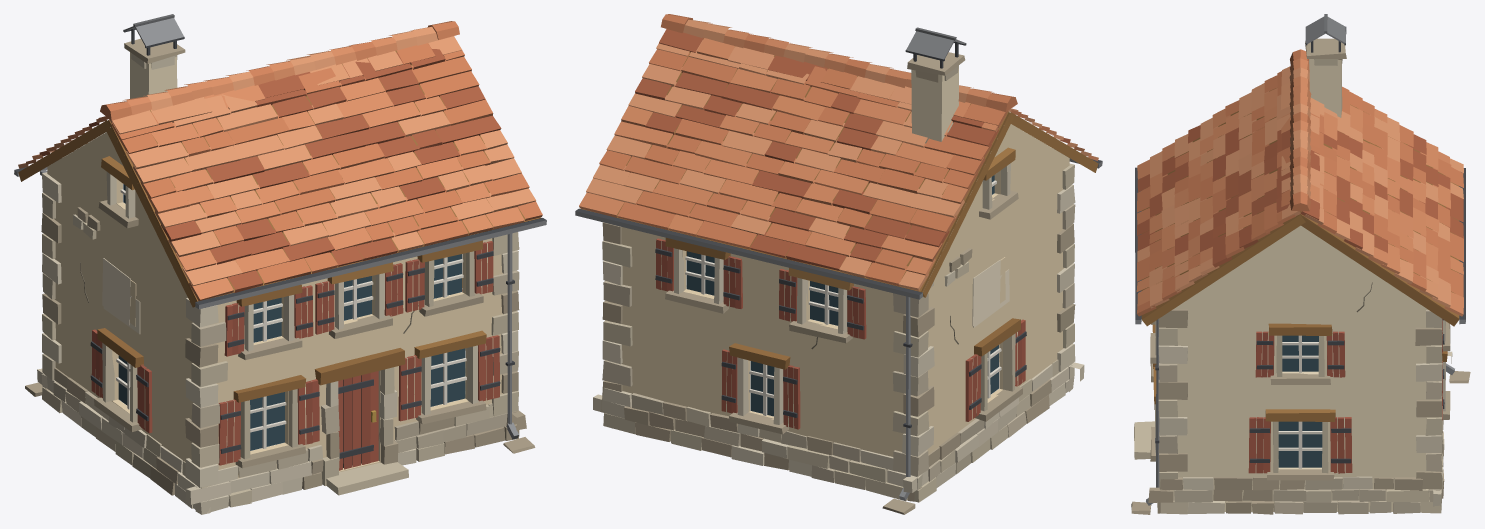
File: firmin.glb
3 renders of one model, left to right at view 1: azimuth 30°, elevation 25°; view 2: azimuth 150°, elevation 25°; view 3: azimuth 270°, elevation 25°, orthographic. The views are drawn at different scales.
Parts seen in each view (by area): view 1: firmin; view 2: firmin; view 3: firmin.
Boxes of the visible parts, <box> form: firmin: <box>14,14,546,514</box>; firmin: <box>575,14,1102,514</box>; firmin: <box>1131,14,1470,514</box>.
Size of the model in its own units: 7.84 by 8.94 by 7.37.
